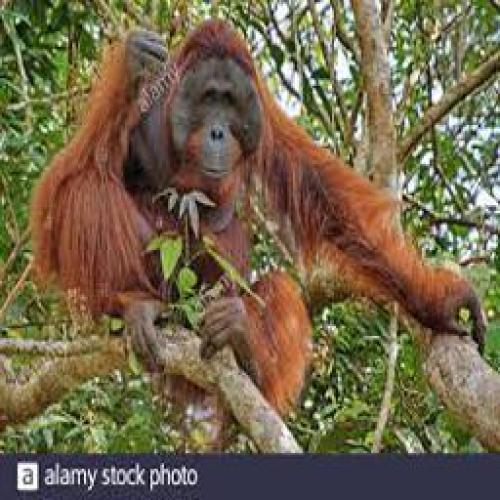orangutan-endangered: (25, 15, 487, 429)
